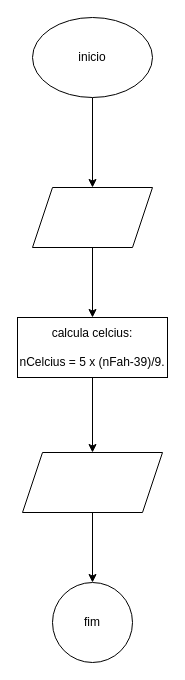
This 185x680 diagram has some shape labels left out. Each missing label, with the box of its shape:
Digite fahrenheit: Leia(nFah): (32, 186, 152, 248)
Imprima("celcius: ", celcius): (22, 452, 162, 512)
